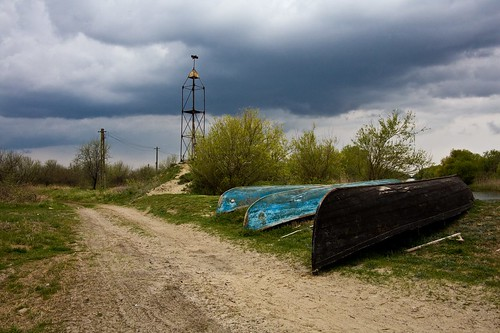boat: (307, 176, 497, 274), (239, 180, 317, 231), (211, 181, 249, 213)
road: (54, 207, 438, 333)
sky: (1, 1, 488, 138)
vegetation: (1, 133, 491, 193)
